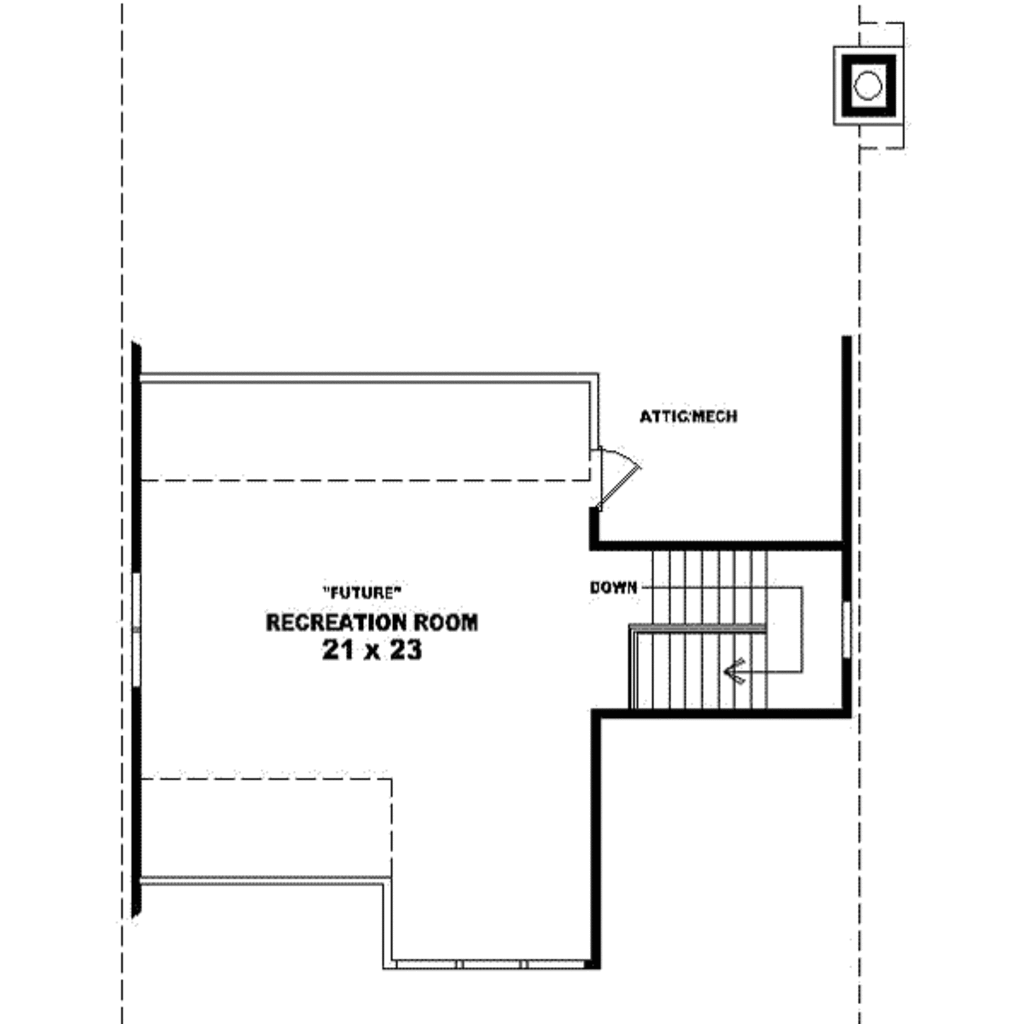door: (594, 442, 645, 516)
stairs: (602, 552, 811, 717)
window: (128, 574, 148, 678), (841, 600, 852, 657)
